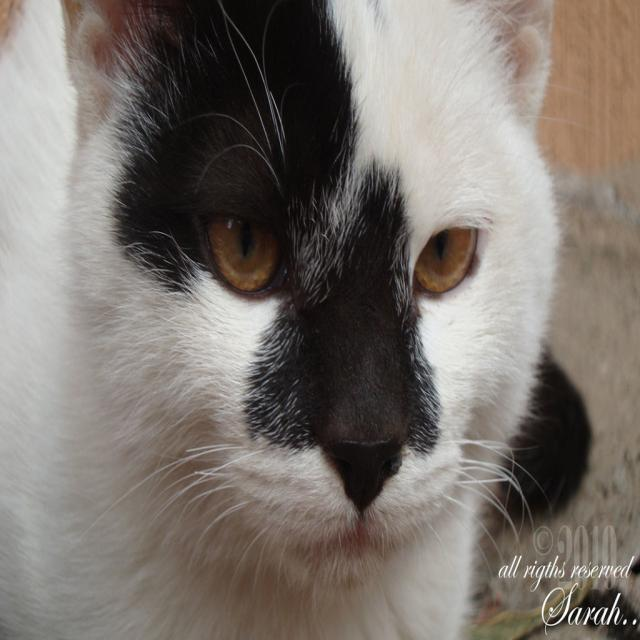Cat: (0, 0, 596, 639)
